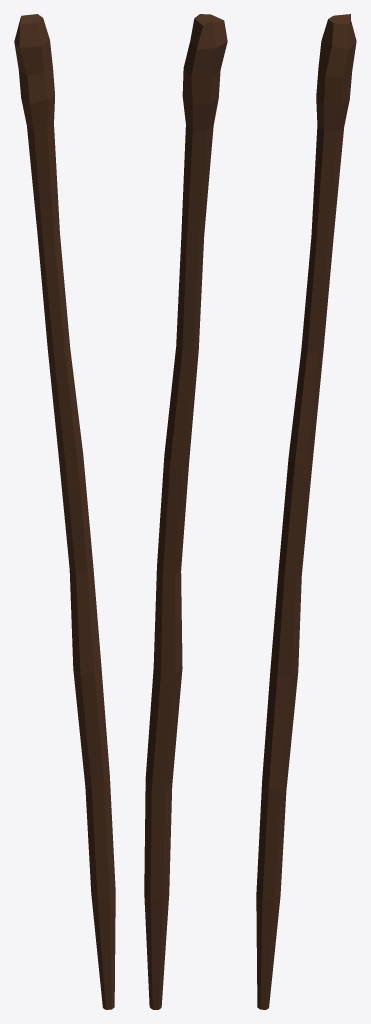
The model's file is Wizard_Palo.fbx.
3 views of the same model, side by side, from view 1: azimuth 90°, elevation 25°; view 2: azimuth 210°, elevation 25°; view 3: azimuth 270°, elevation 25° (orthographic). The views are drawn at different scales.
Parts seen in each view (by area): view 1: Staff; view 2: Staff; view 3: Staff.
Boxes of the visible parts, left/top/right/bottom form: Staff: left=14, top=14, right=115, bottom=1009; Staff: left=144, top=14, right=227, bottom=1009; Staff: left=256, top=14, right=356, bottom=1009.
Bounding box in the file's own units: 7.54 × 185 × 17.09.
